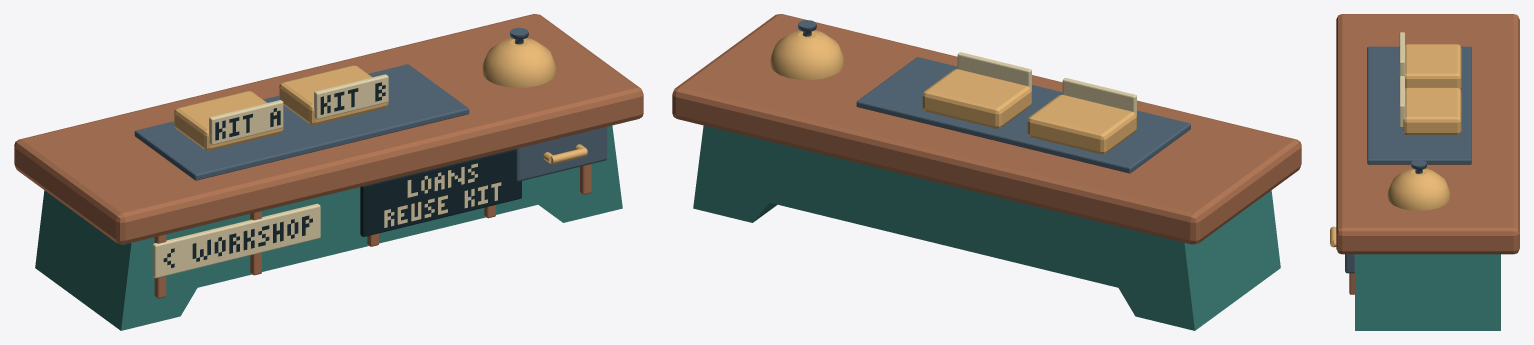
The picture shows the model from 3 angles, left to right: view 1: azimuth 30°, elevation 25°; view 2: azimuth 150°, elevation 25°; view 3: azimuth 270°, elevation 25°; orthographic projection. The views are drawn at different scales.
Parts seen in each view (by area): view 1: PR090 enamel and hardware; view 2: PR090 enamel and hardware; view 3: PR090 enamel and hardware.
Boxes of the visible parts, <box> form: PR090 enamel and hardware: <box>14,14,643,330</box>; PR090 enamel and hardware: <box>672,14,1301,330</box>; PR090 enamel and hardware: <box>1330,14,1519,330</box>.
Size of the model in its own units: 2.5 by 0.749 by 0.9163.
